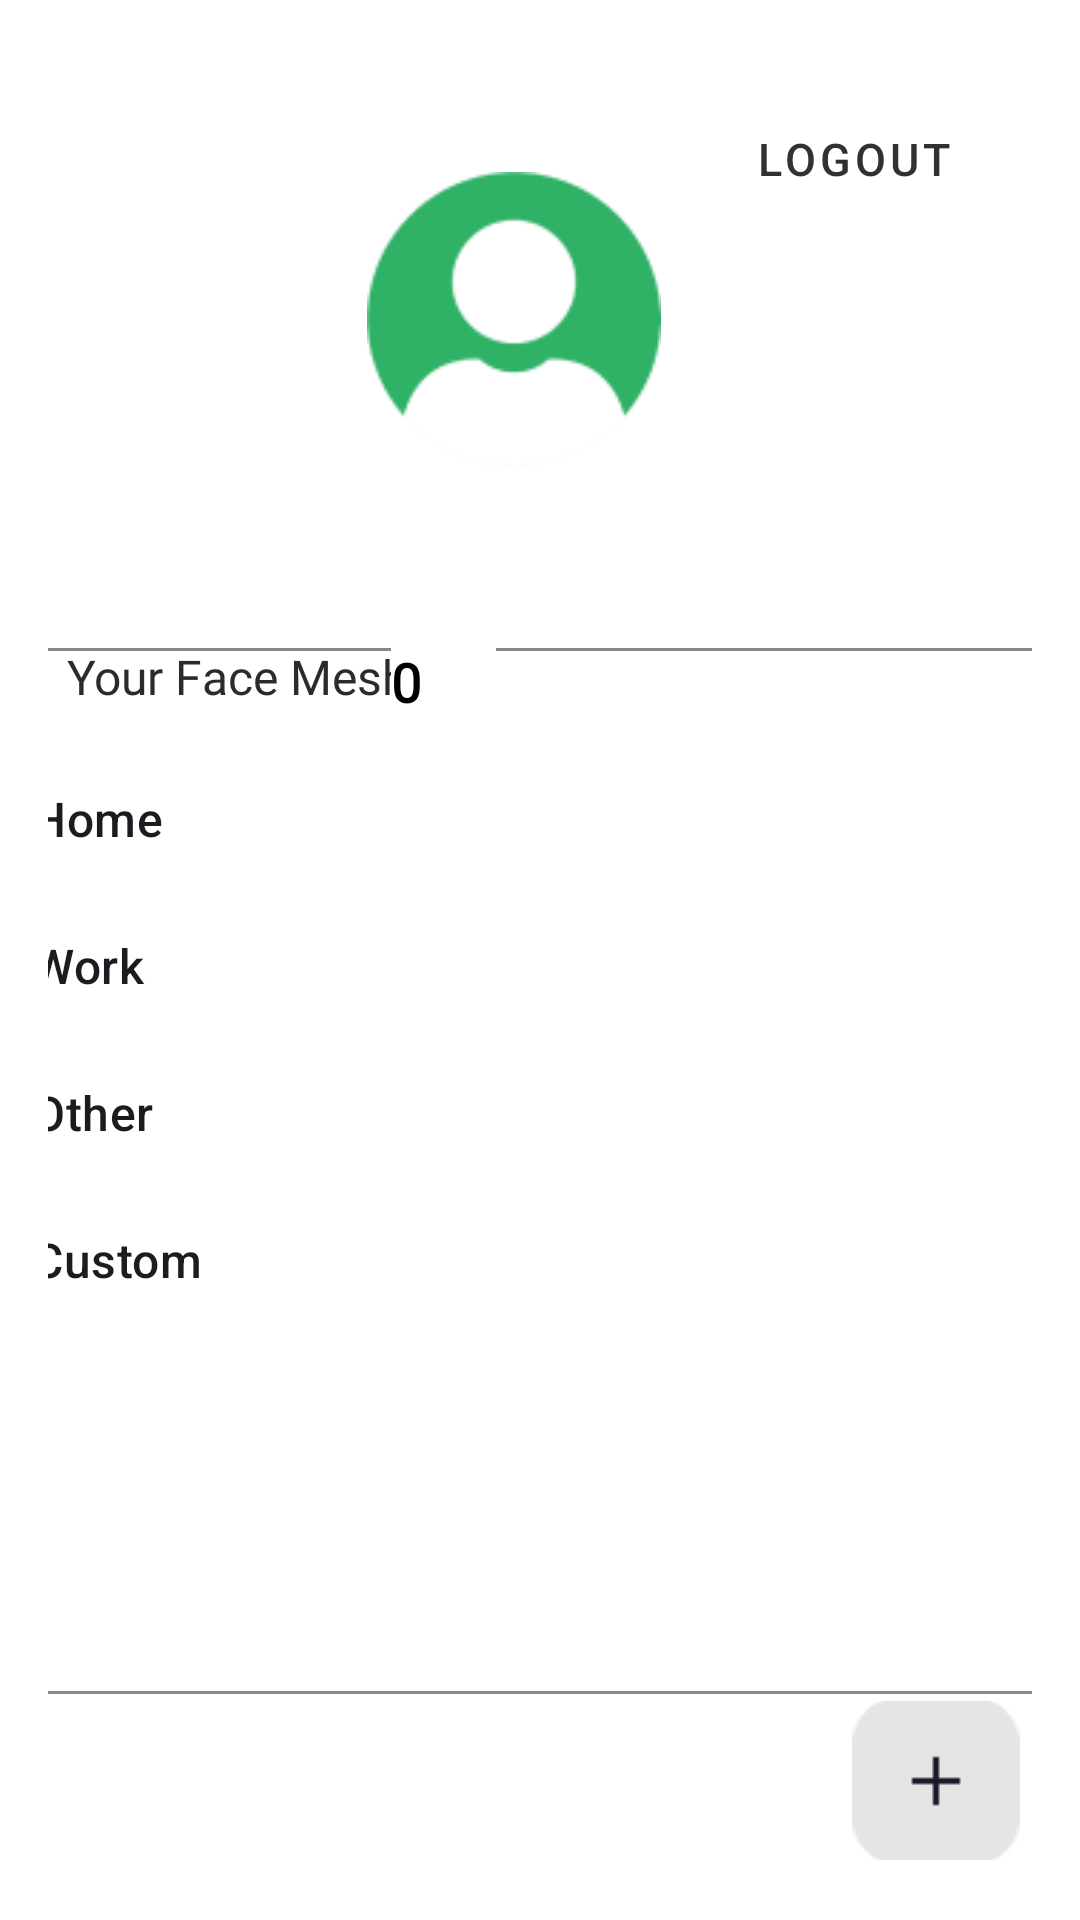

Screen size 1080px x 1920px. Icon name, then its center in pixels as (x,y):
user: (514,294)
